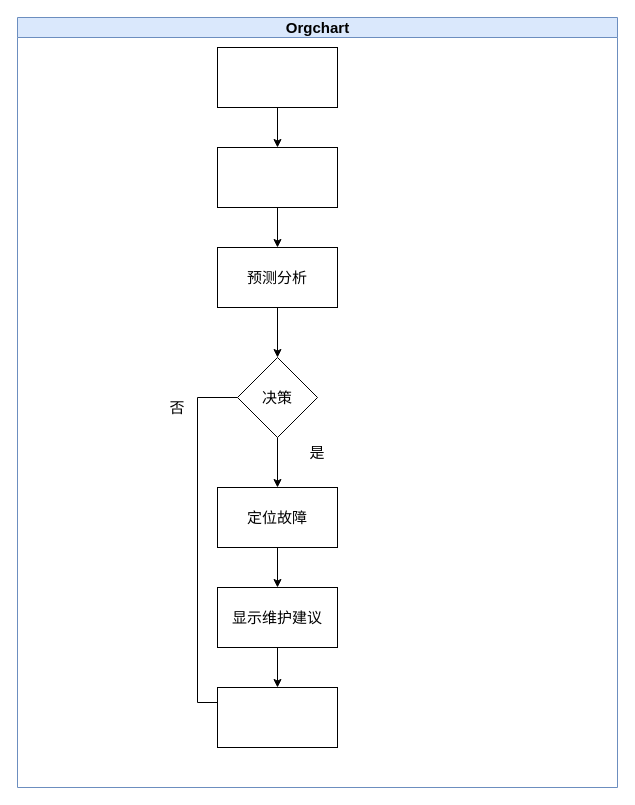
This 635x805 diagram has some shape labels left out. The centre of each missing label's shape, as x and y in pixels:
"收集信号数据" goes at (x=277, y=77).
"数据处理" goes at (x=277, y=177).
"结束" goes at (x=277, y=717).
